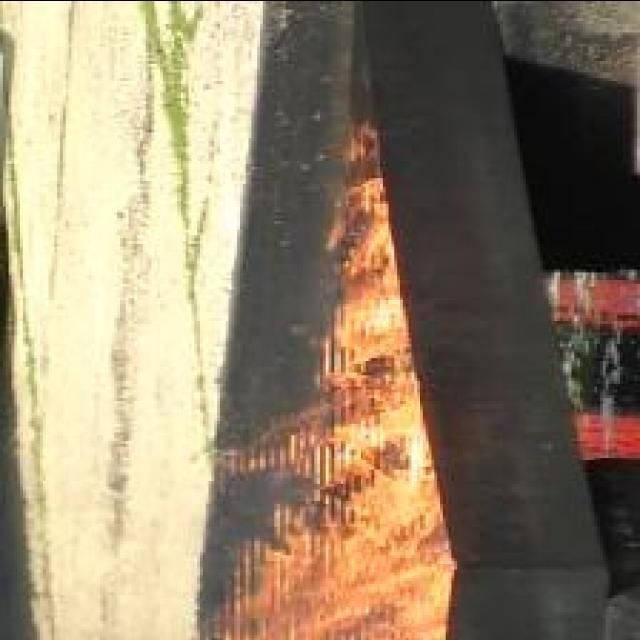Fire: (203, 123, 460, 640)
